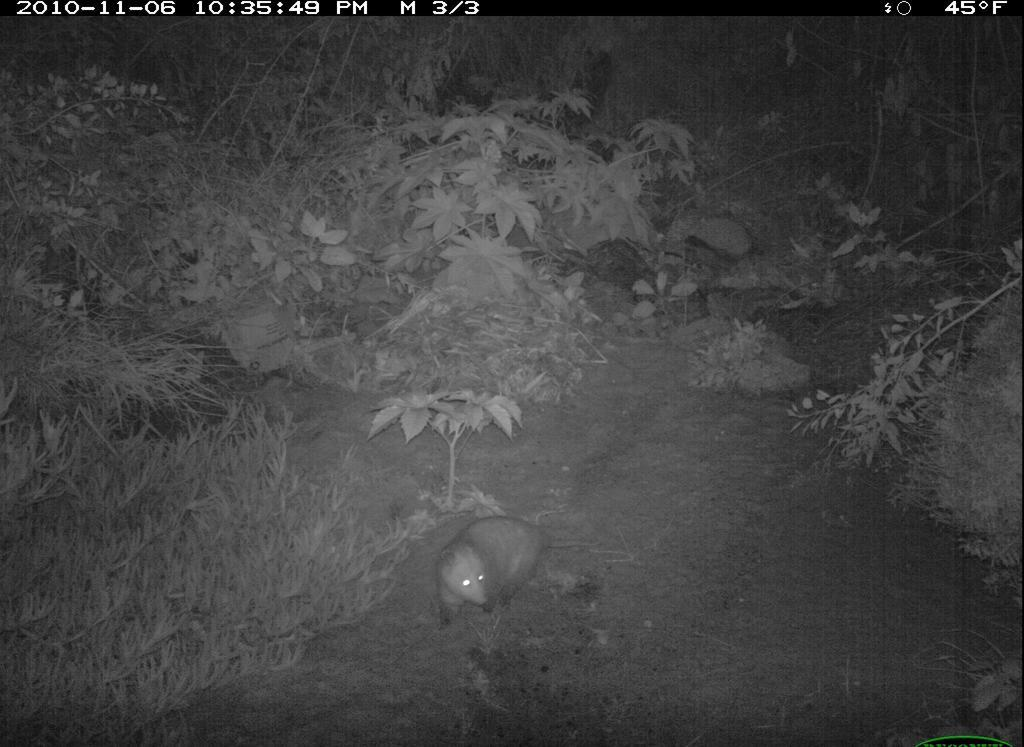opossum: (425, 513, 607, 625)
